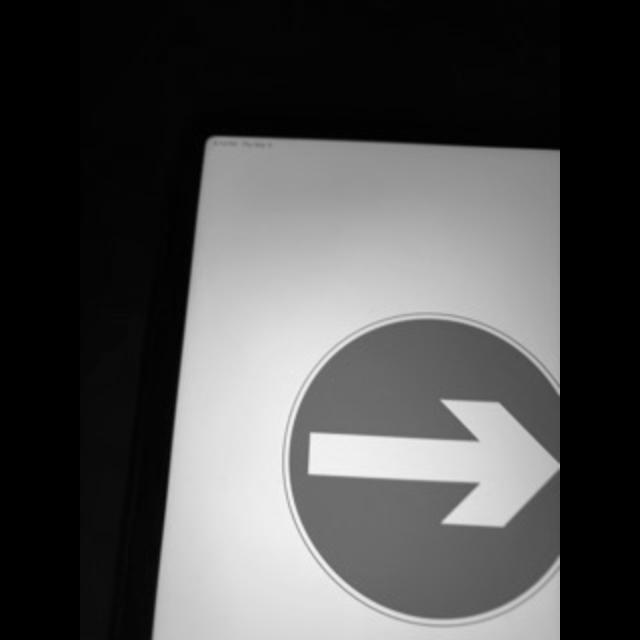TURN RIGHT: (279, 314, 556, 630)
